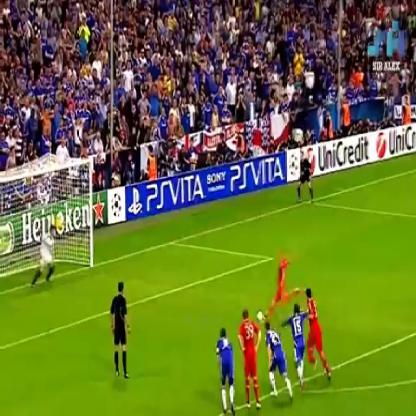penalty kick: (14, 163, 298, 335)
